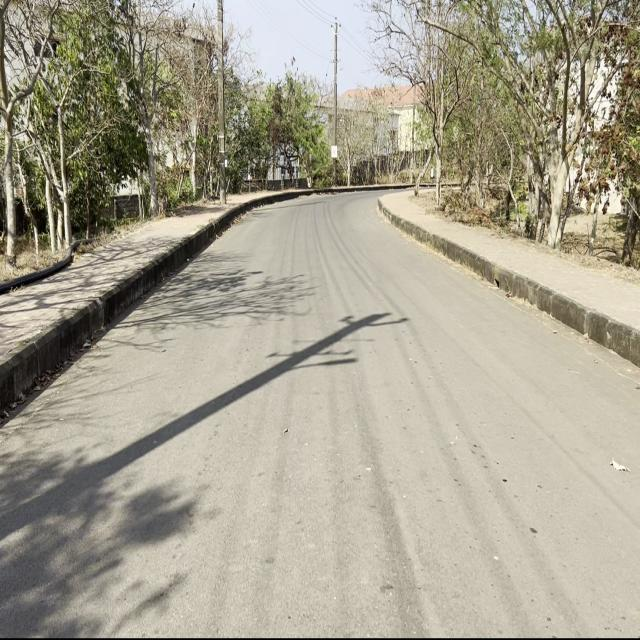Road: (4, 193, 635, 636)
